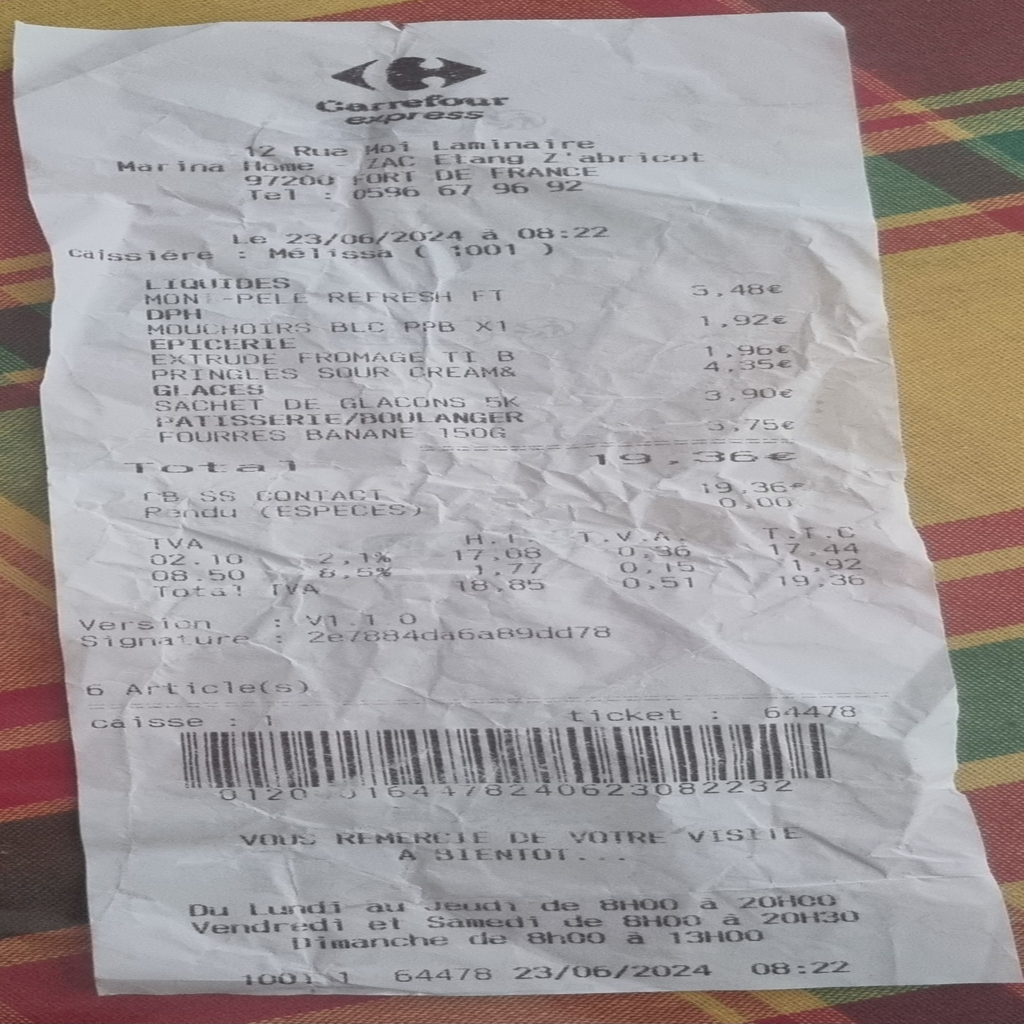recipt: (13, 11, 1022, 999)
